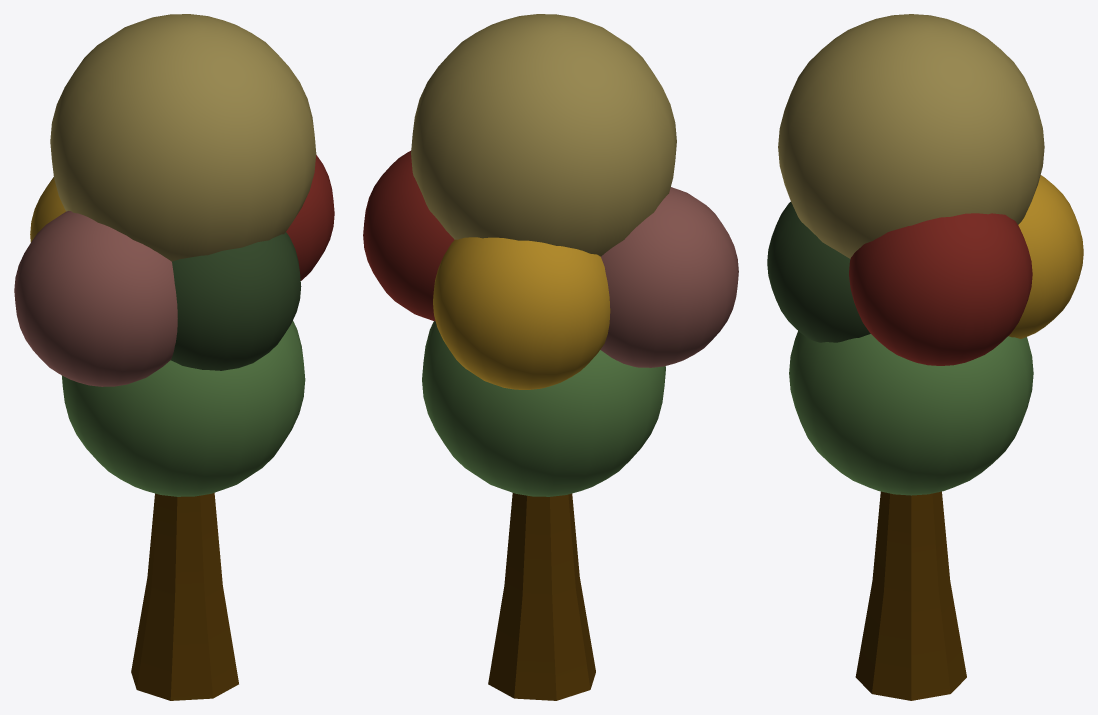
The model's file is Tree_02.fbx.
The picture shows the model from 3 angles, left to right: view 1: azimuth 30°, elevation 25°; view 2: azimuth 150°, elevation 25°; view 3: azimuth 270°, elevation 25°; orthographic projection.
Parts seen in each view (by area): view 1: Tree3_Leaves6; view 2: Tree3_Leaves6; view 3: Tree3_Leaves6.
Boxes of the visible parts, left/top/right/bottom form: Tree3_Leaves6: left=14, top=14, right=334, bottom=700; Tree3_Leaves6: left=363, top=14, right=738, bottom=700; Tree3_Leaves6: left=767, top=14, right=1083, bottom=700.
Bounding box in the file's own units: 669 × 1286 × 568.
